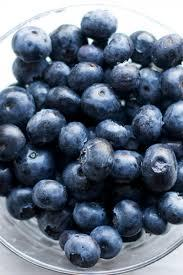bluebarry: (0, 7, 182, 269)
